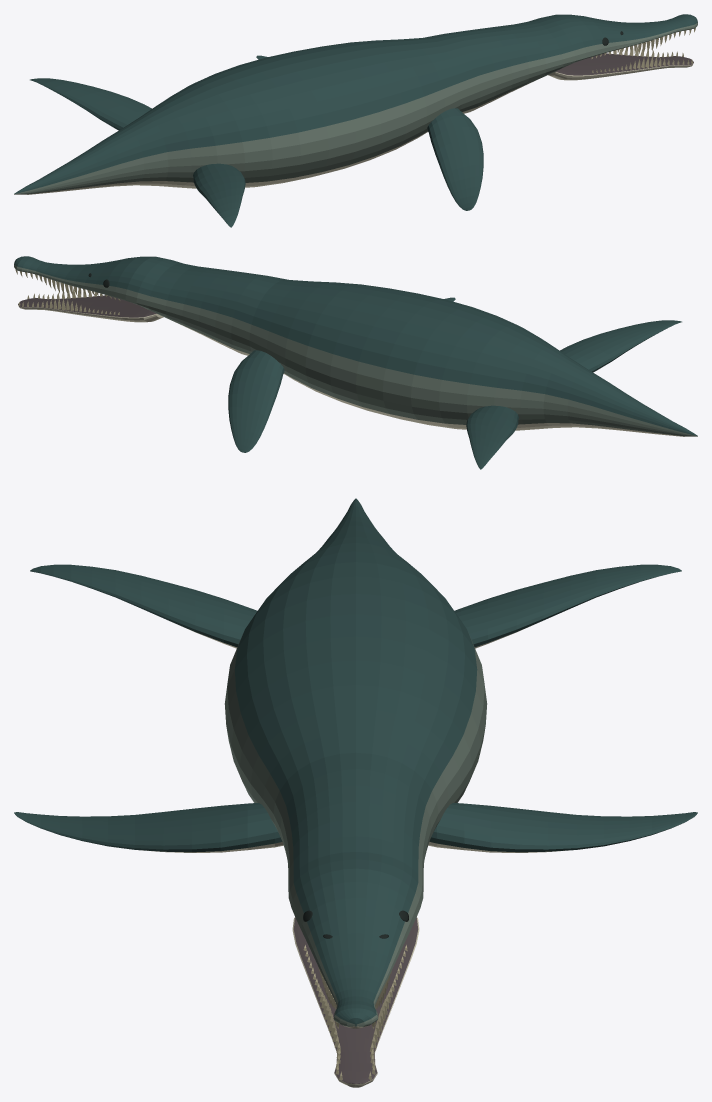
The picture shows the model from 3 angles, top to bottom: view 1: azimuth 30°, elevation 25°; view 2: azimuth 150°, elevation 25°; view 3: azimuth 270°, elevation 25°; orthographic projection. The views are drawn at different scales.
Parts seen in each view (by area): view 1: Continuous_broad_trunk_thick_neck_triangular_head_and_tail, Foreflipper_near, Reconstructed_hindflipper_far, Reconstructed_hindflipper_near, Robust_broad_lower_jaw_open_12_degrees, Simplified_trihedral_heterodont_crowns; view 2: Continuous_broad_trunk_thick_neck_triangular_head_and_tail, Foreflipper_far, Reconstructed_hindflipper_near, Reconstructed_hindflipper_far, Robust_broad_lower_jaw_open_12_degrees, Simplified_trihedral_heterodont_crowns; view 3: Continuous_broad_trunk_thick_neck_triangular_head_and_tail, Foreflipper_far, Foreflipper_near, Reconstructed_hindflipper_far, Reconstructed_hindflipper_near, Robust_broad_lower_jaw_open_12_degrees, Simplified_trihedral_heterodont_crowns.
Boxes of the visible parts, left/top/right/bottom form: Continuous_broad_trunk_thick_neck_triangular_head_and_tail: left=14, top=14, right=697, bottom=194; Foreflipper_near: left=427, top=108, right=483, bottom=210; Reconstructed_hindflipper_far: left=30, top=78, right=151, bottom=130; Reconstructed_hindflipper_near: left=193, top=163, right=245, bottom=227; Robust_broad_lower_jaw_open_12_degrees: left=548, top=53, right=693, bottom=80; Simplified_trihedral_heterodont_crowns: left=591, top=28, right=695, bottom=72; Continuous_broad_trunk_thick_neck_triangular_head_and_tail: left=14, top=256, right=697, bottom=436; Foreflipper_far: left=228, top=350, right=284, bottom=452; Reconstructed_hindflipper_near: left=560, top=320, right=681, bottom=372; Reconstructed_hindflipper_far: left=466, top=405, right=518, bottom=469; Robust_broad_lower_jaw_open_12_degrees: left=18, top=295, right=163, bottom=322; Simplified_trihedral_heterodont_crowns: left=15, top=269, right=120, bottom=314; Continuous_broad_trunk_thick_neck_triangular_head_and_tail: left=224, top=498, right=487, bottom=1028; Foreflipper_far: left=428, top=803, right=697, bottom=852; Foreflipper_near: left=14, top=803, right=283, bottom=852; Reconstructed_hindflipper_far: left=454, top=564, right=681, bottom=648; Reconstructed_hindflipper_near: left=30, top=564, right=257, bottom=648; Robust_broad_lower_jaw_open_12_degrees: left=292, top=917, right=419, bottom=1087; Simplified_trihedral_heterodont_crowns: left=303, top=945, right=407, bottom=1080.
Bounding box in the file's own units: 8 × 1.17 × 4.3.
